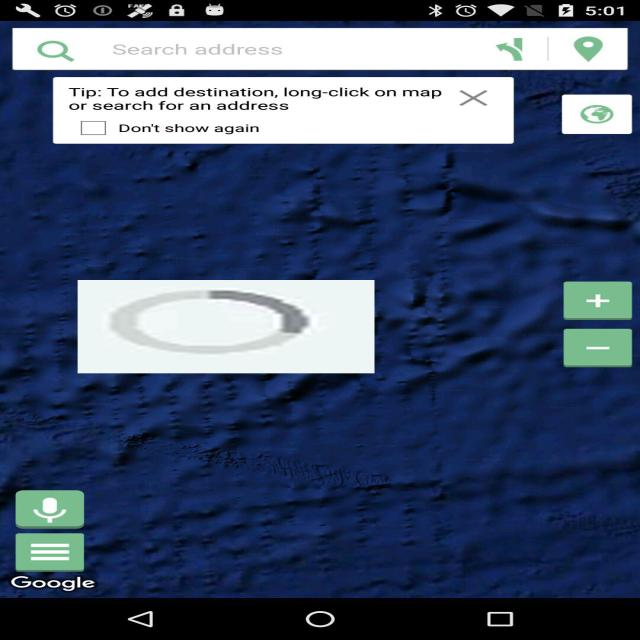misdirection: (78, 280, 374, 373)
